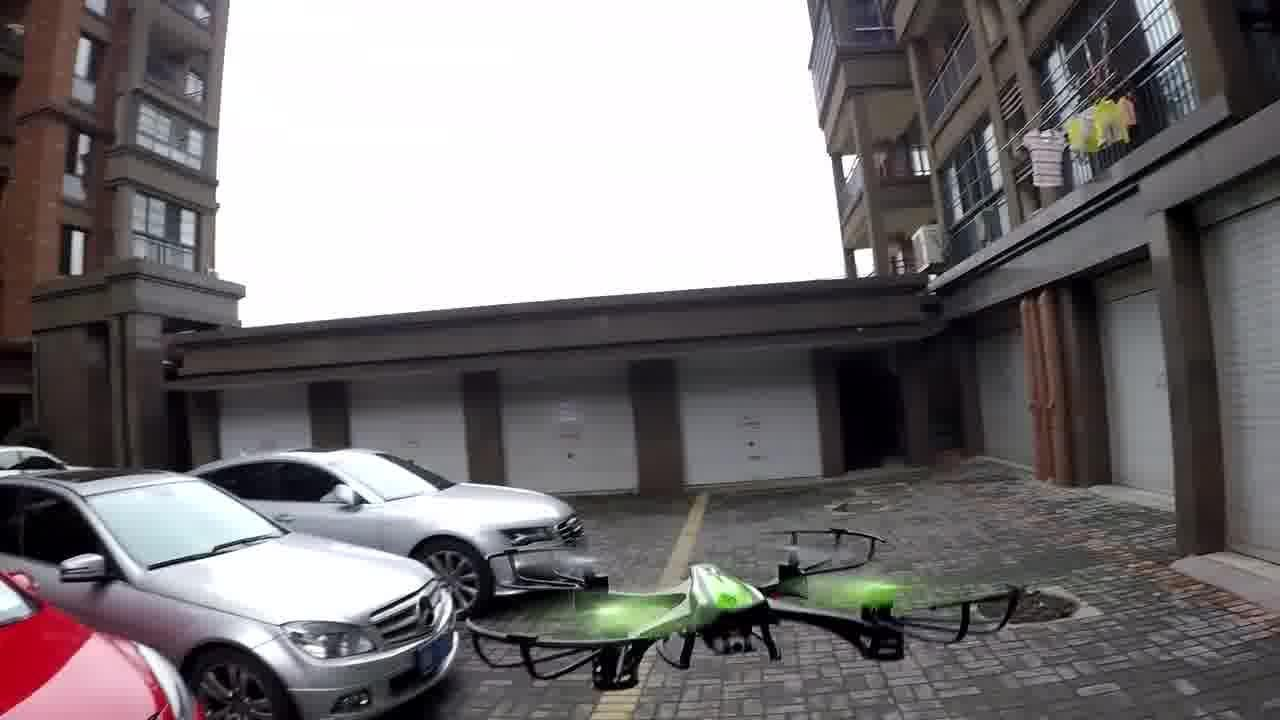drone: (446, 504, 1074, 715)
